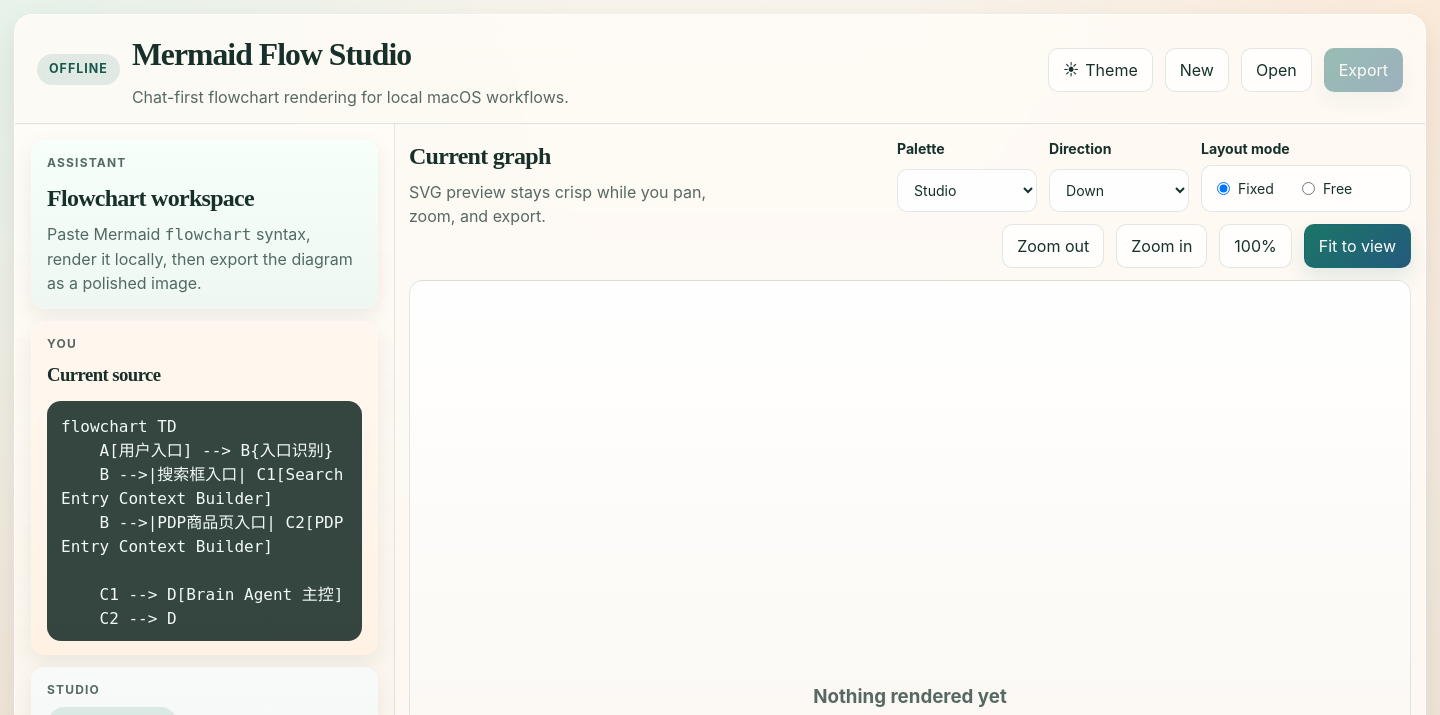
Test: loads persisted customization when a Mermaid file is opened
Click the button "Open" at [1276, 70], box [1241, 48, 1312, 92]
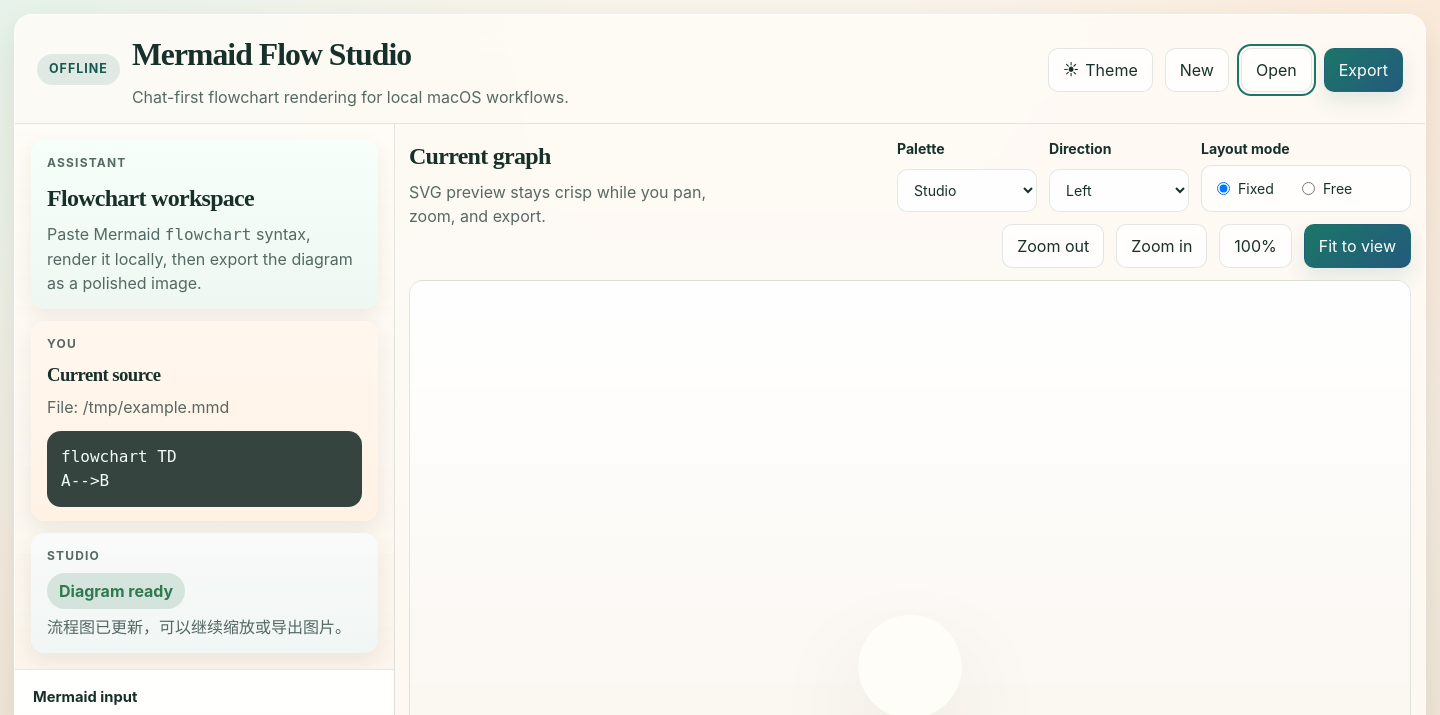
Check: the dropdown labelled "Direction" shows "Left", box [1049, 169, 1189, 212]
